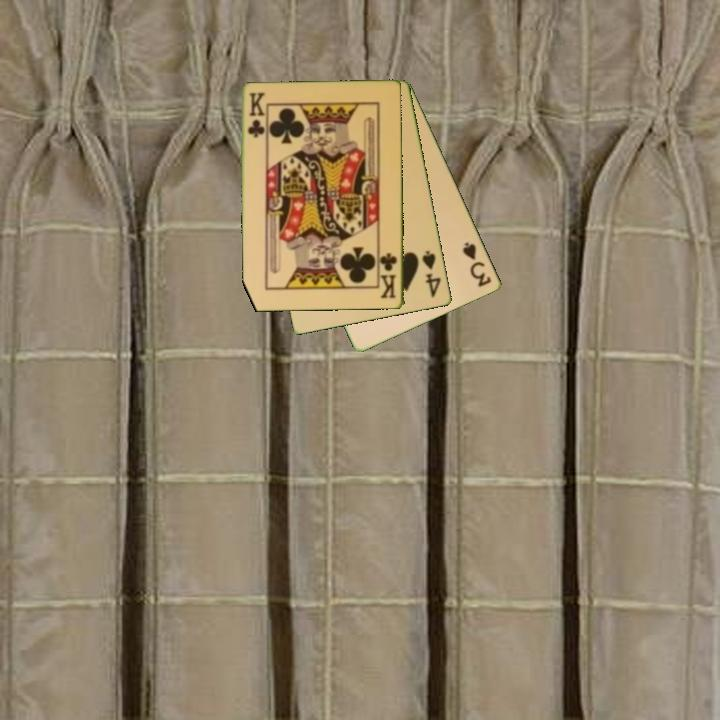3s: (459, 239, 495, 290)
4s: (419, 247, 444, 301)
Kc: (378, 250, 400, 301), (245, 89, 266, 141)
